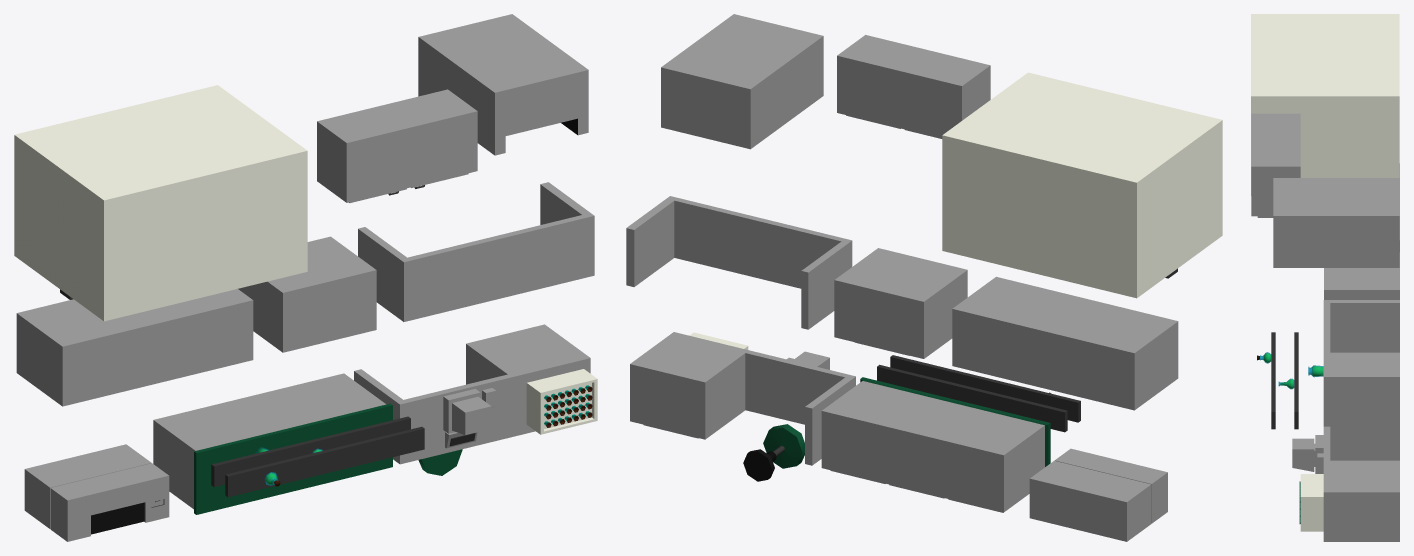
The model's file is science_lab_lowpoly.fbx.
3 views of the same model, side by side, from view 1: azimuth 30°, elevation 25°; view 2: azimuth 150°, elevation 25°; view 3: azimuth 270°, elevation 25° (orthographic). The views are drawn at different scales.
Visible parts, largest first — view 1: frezzer, balcony_center, balcony_base, balcony_table, record, air_balcony, balcony_seat, balcony_printer, balcony_bidet, box_samples, computer, samples (+1 smaller); view 2: frezzer, balcony_center, balcony_base, record, balcony_seat, balcony_table, air_balcony, balcony_bidet, balcony_printer, chair; view 3: frezzer, record, balcony_seat, balcony_table, air_balcony, balcony_center, balcony_bidet, box_samples, computer.
Part boxes in pixels (left/top/right/bottom): frezzer: left=14, top=85, right=307, bottom=321; balcony_center: left=153, top=373, right=424, bottom=514; balcony_base: left=16, top=289, right=253, bottom=406; balcony_table: left=358, top=182, right=594, bottom=321; record: left=418, top=14, right=588, bottom=155; air_balcony: left=317, top=89, right=477, bottom=202; balcony_seat: left=354, top=324, right=590, bottom=464; balcony_printer: left=24, top=444, right=169, bottom=541; balcony_bidet: left=238, top=236, right=376, bottom=352; box_samples: left=526, top=369, right=597, bottom=434; computer: left=443, top=388, right=496, bottom=448; samples: left=544, top=385, right=592, bottom=427; frezzer: left=942, top=72, right=1222, bottom=298; balcony_center: left=821, top=355, right=1080, bottom=512; balcony_base: left=952, top=276, right=1178, bottom=410; record: left=661, top=14, right=823, bottom=149; balcony_seat: left=630, top=332, right=855, bottom=465; balcony_table: left=626, top=196, right=852, bottom=329; air_balcony: left=837, top=35, right=990, bottom=138; balcony_bidet: left=834, top=248, right=967, bottom=358; balcony_printer: left=1029, top=448, right=1167, bottom=541; chair: left=743, top=424, right=804, bottom=481; frezzer: left=1251, top=14, right=1399, bottom=195; record: left=1273, top=178, right=1399, bottom=267; balcony_seat: left=1323, top=426, right=1399, bottom=541; balcony_table: left=1323, top=300, right=1399, bottom=426; air_balcony: left=1251, top=113, right=1300, bottom=217; balcony_center: left=1271, top=332, right=1399, bottom=429; balcony_bidet: left=1324, top=252, right=1399, bottom=299; box_samples: left=1300, top=474, right=1323, bottom=531; computer: left=1292, top=435, right=1323, bottom=473.
Size of the model in its own units: 18.68 by 13.87 by 5.44.
